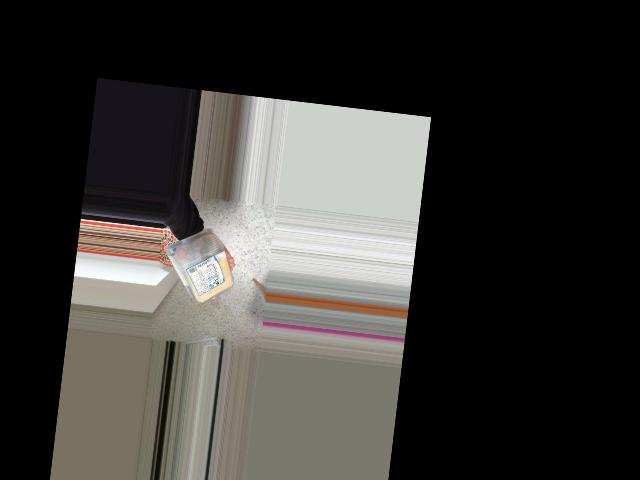cheese: (187, 237, 231, 306)
